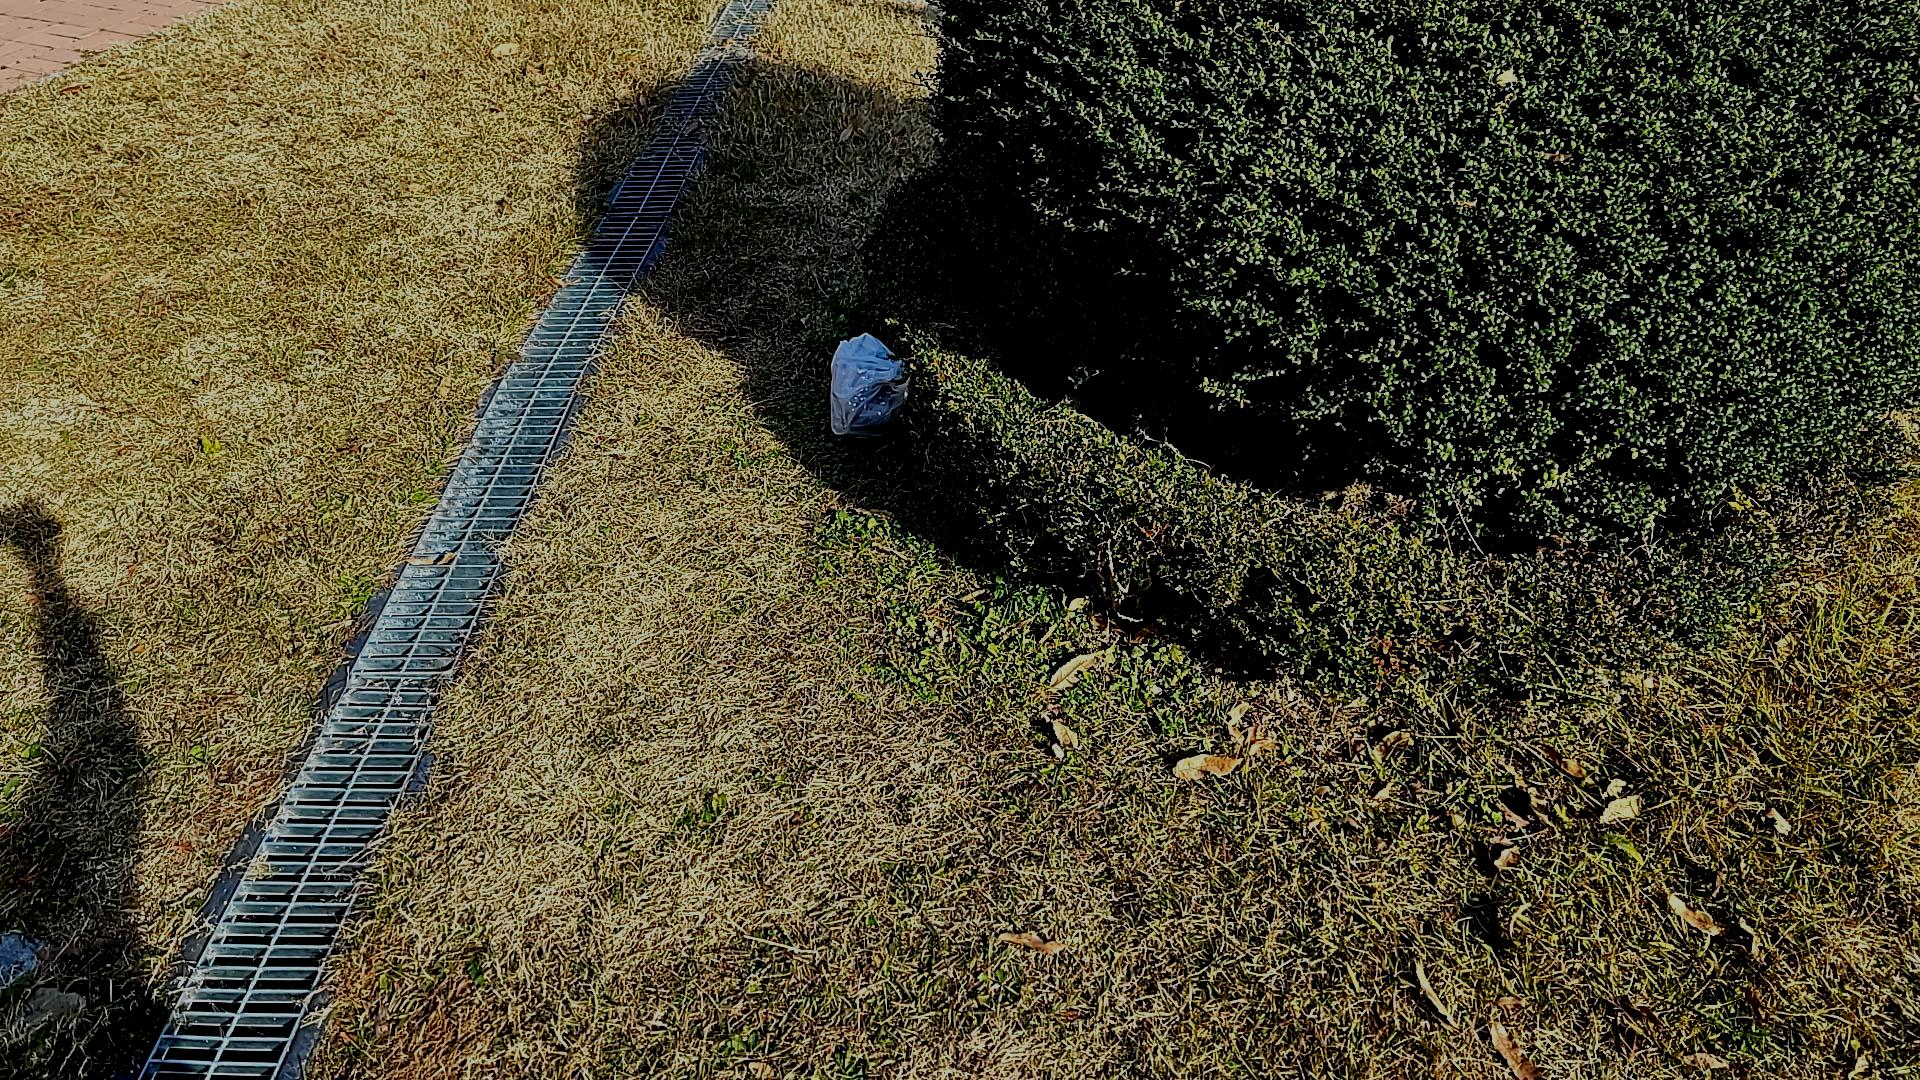white_bag: (822, 330, 916, 444)
